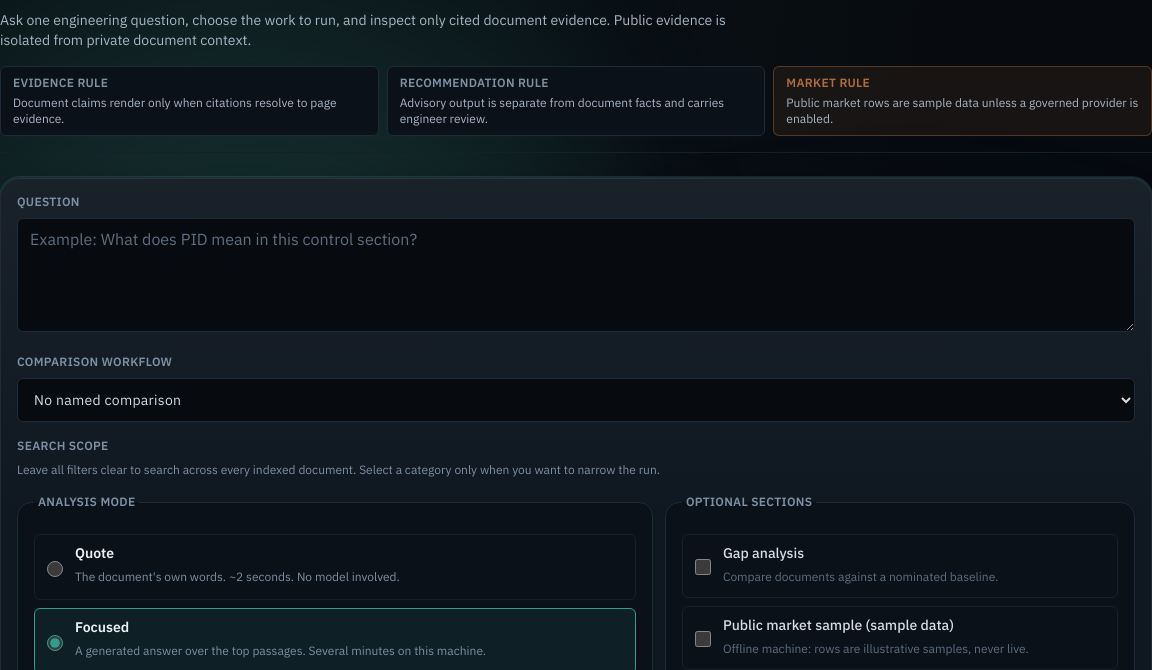
Test: AnalysisModeScreen: four states, four renderings › shows an EMPTY RESULT as empty, not as a failure and not as a spinner that never stops
This screenshot has width=1152, height=670.
Type "what is the pressure floor" into the text box labelled "Question" at (576, 275), box [17,218,1135,332]
(page scrolled)
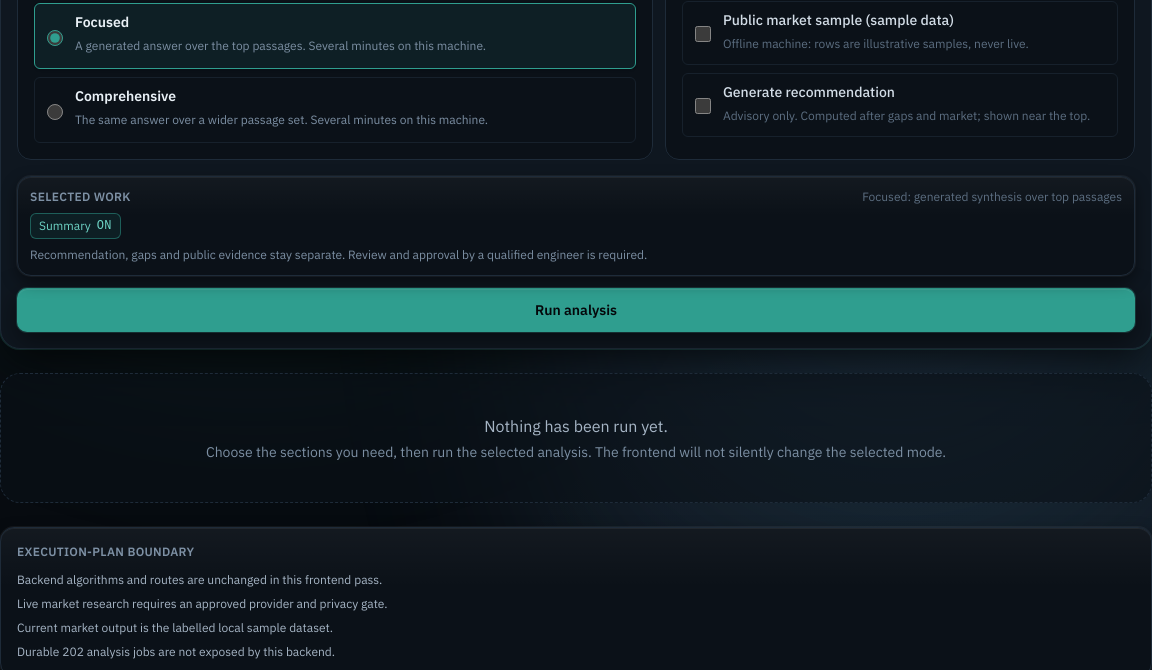
Click the button "Run analysis" at (576, 310), box [17,288,1135,332]
(page scrolled)
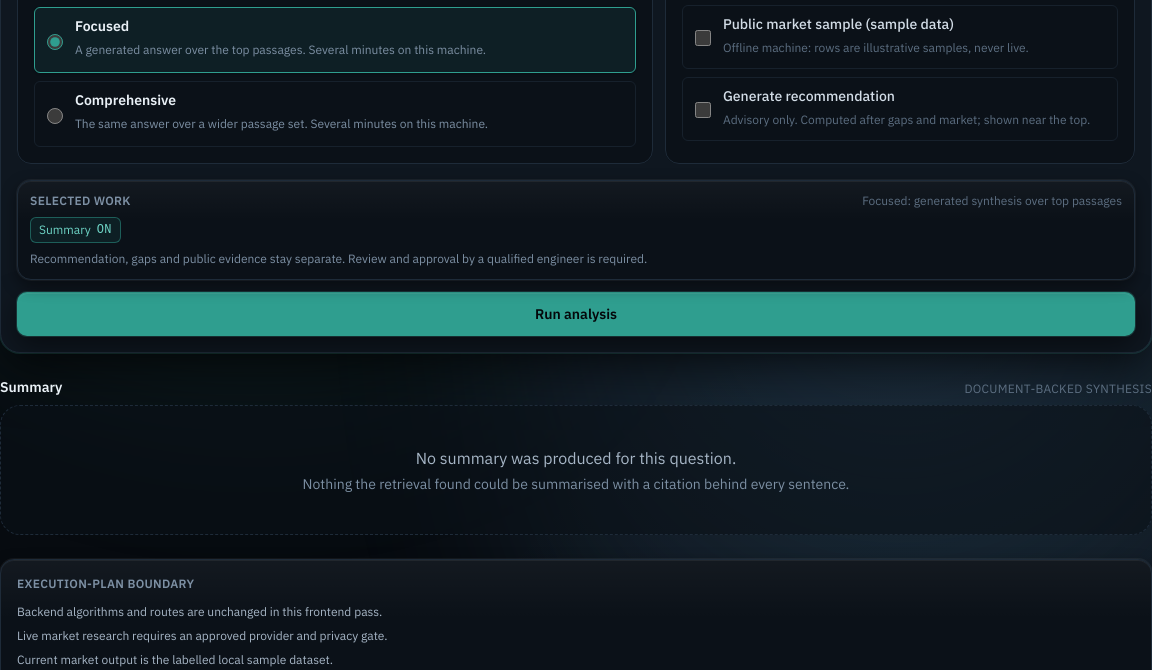
Check: the text "No summary was produced for this question." is shown, box [416,448,736,468]
